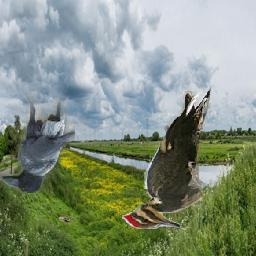Crow: (0, 91, 75, 194)
Woodpecker: (123, 87, 212, 229)
